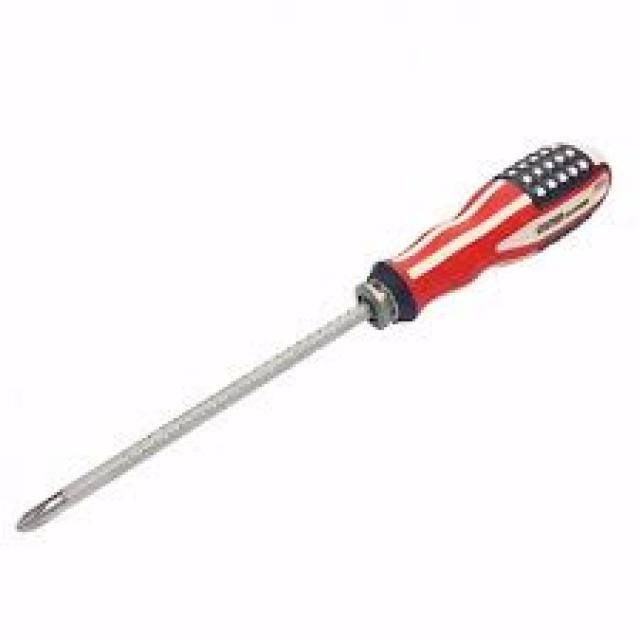screwdriver: (11, 132, 618, 536)
